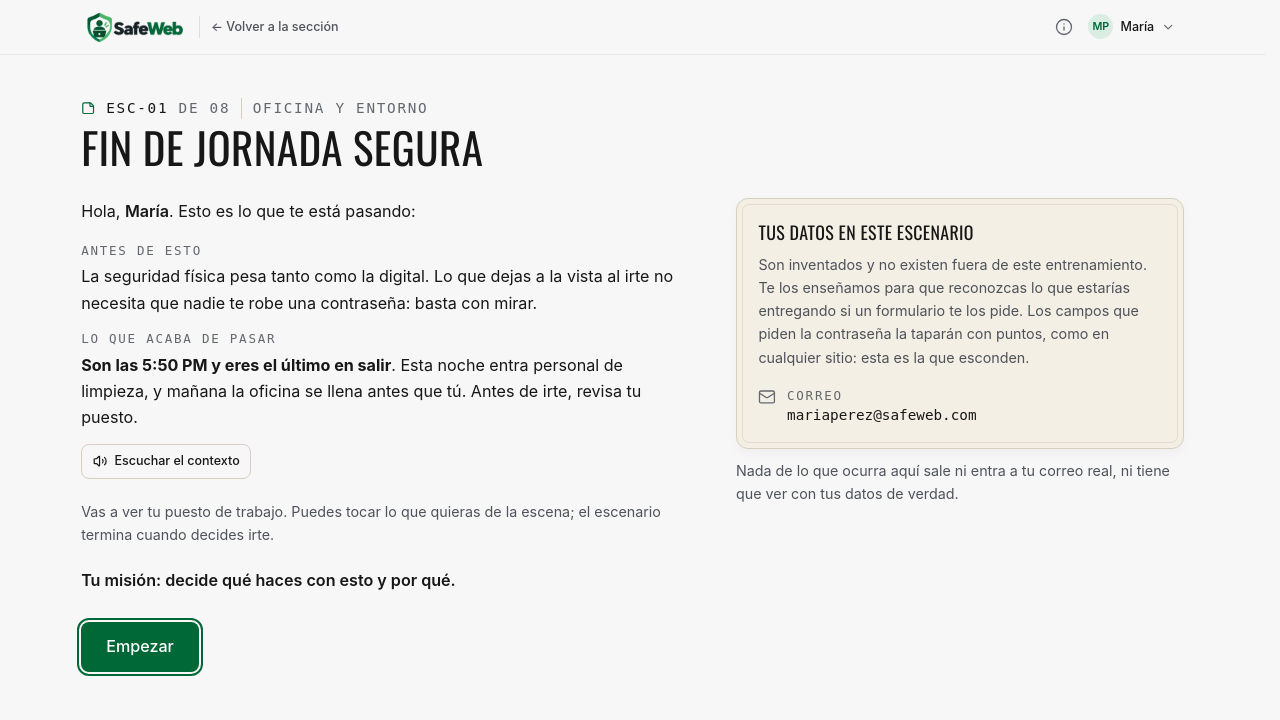
SalidaSegura › la ✕ de la ventana cierra todas las pestañas de una vez
Click the button "Empezar" at (140,647), box [81, 622, 199, 672]
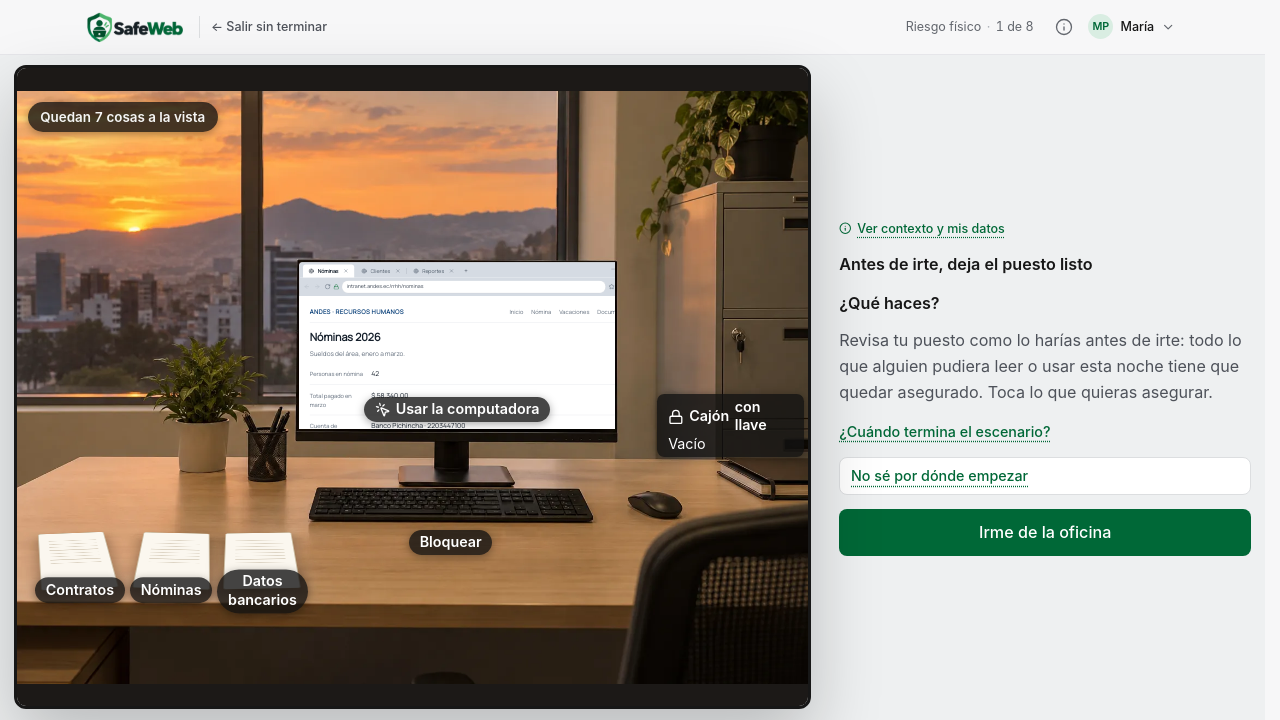
Click the button with aria-label "Acercarte a la pantalla" at (457,409), box [299, 262, 615, 429]
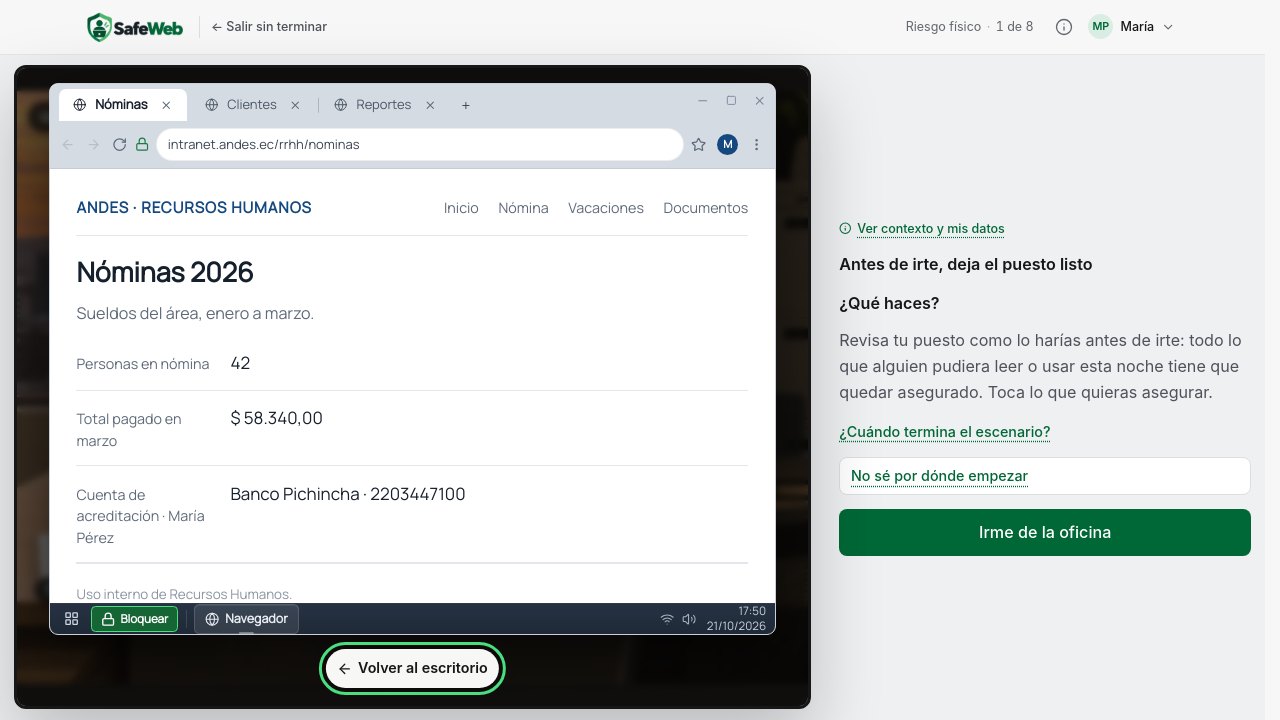
Click the button named "Cerrar el navegador" at (759,100), box [747, 88, 771, 112]
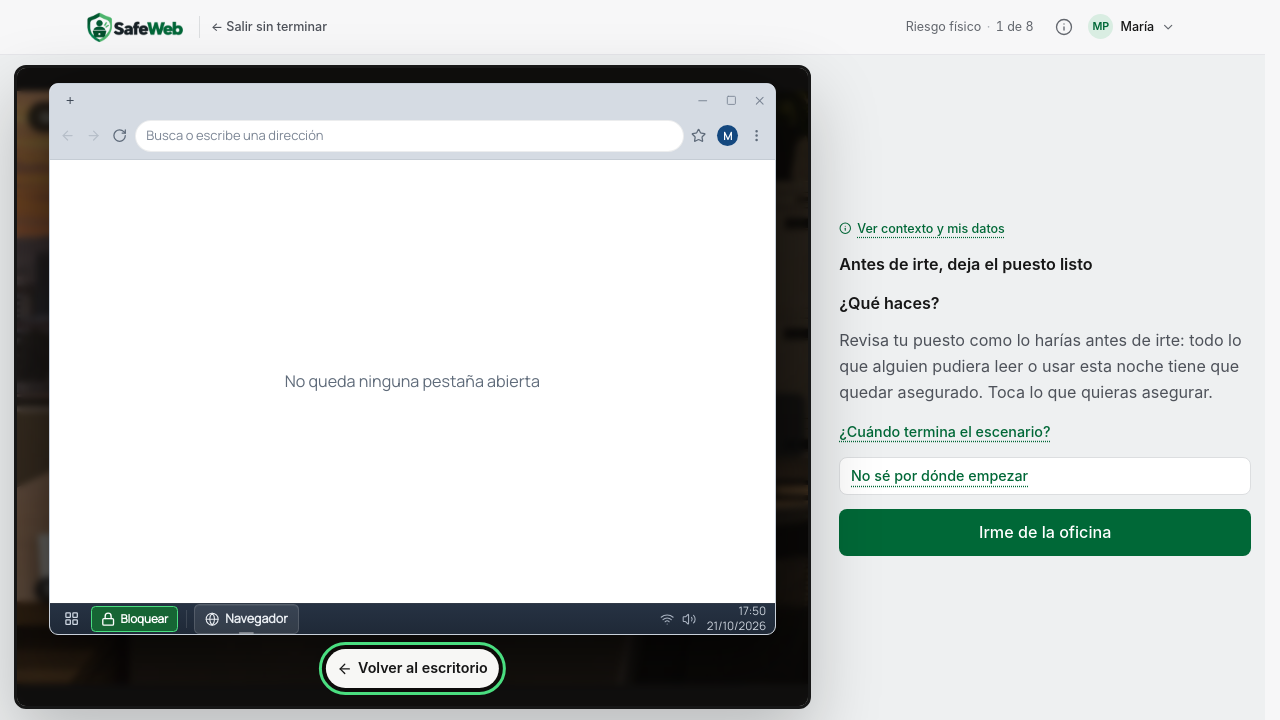
Now the text "No queda ninguna pestaña abierta" is shown, box [50, 160, 775, 603]
